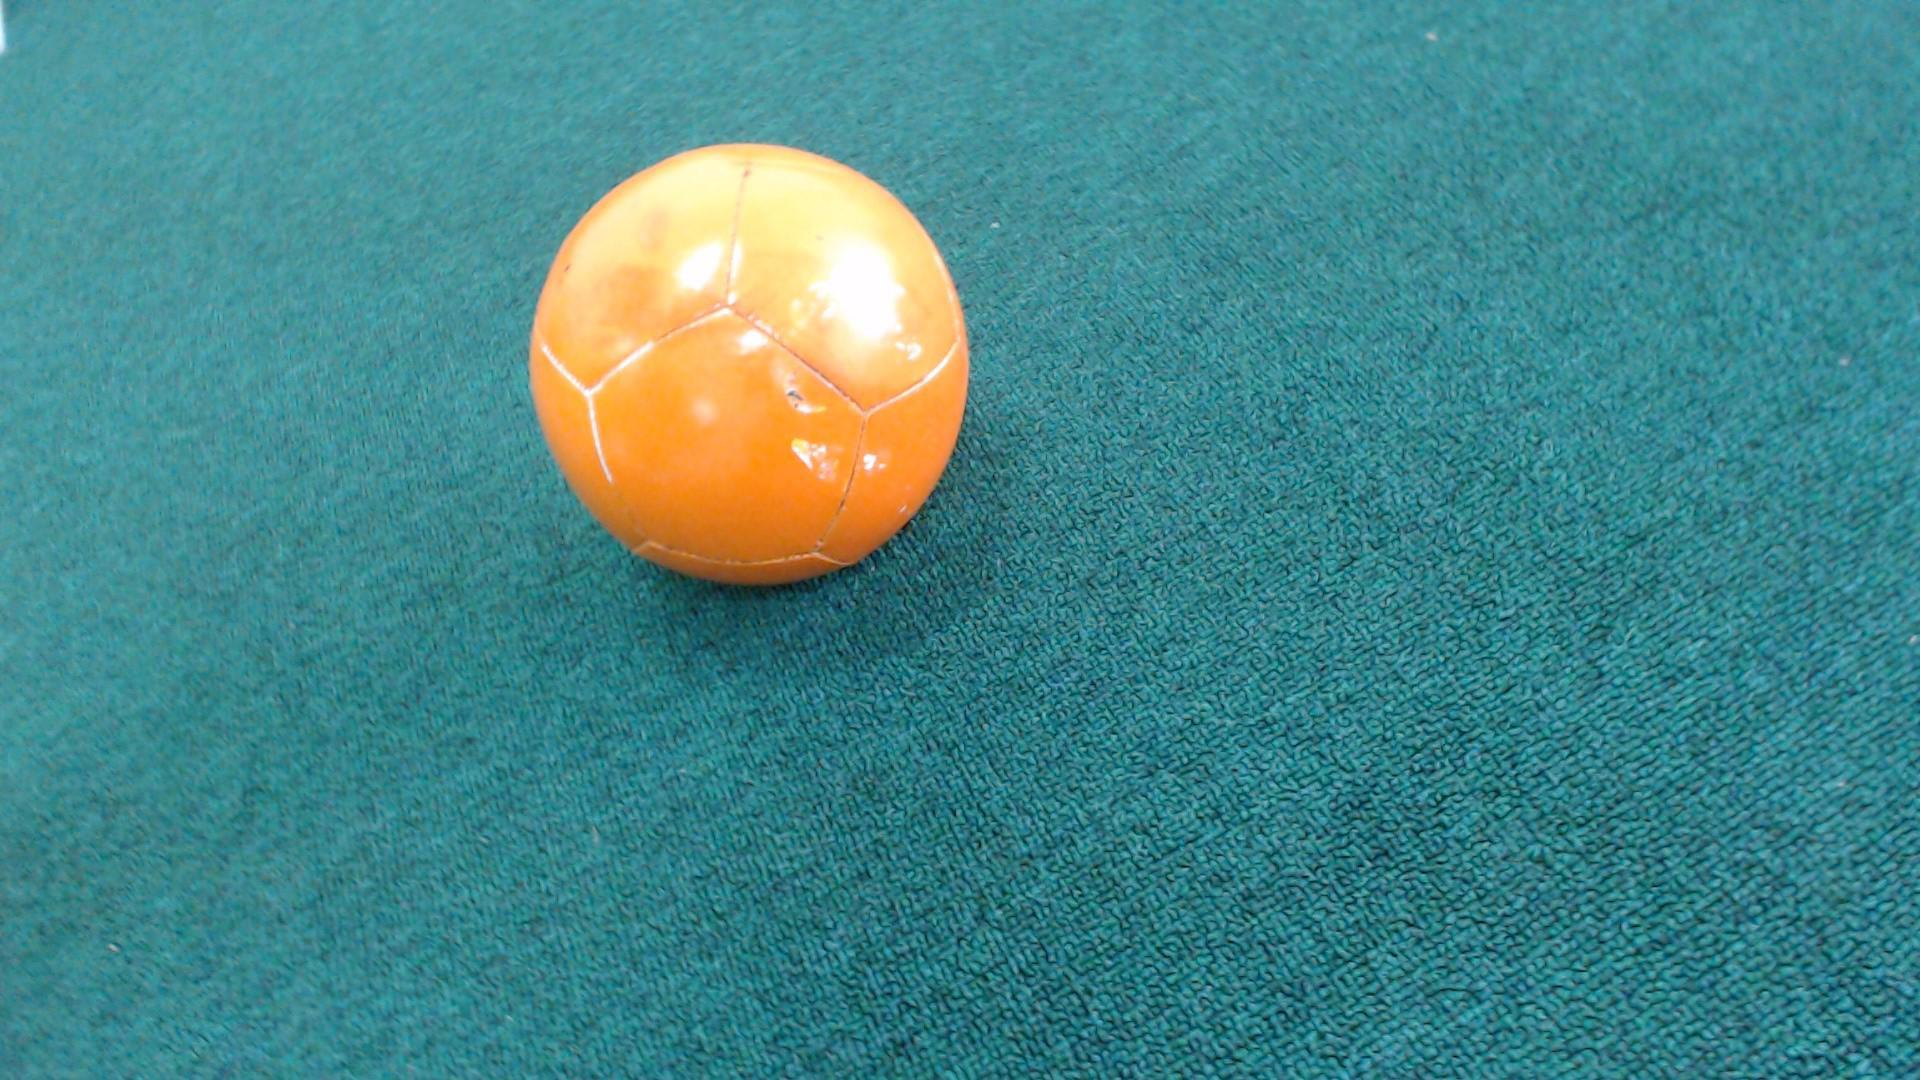bola: (495, 136, 1027, 640)
